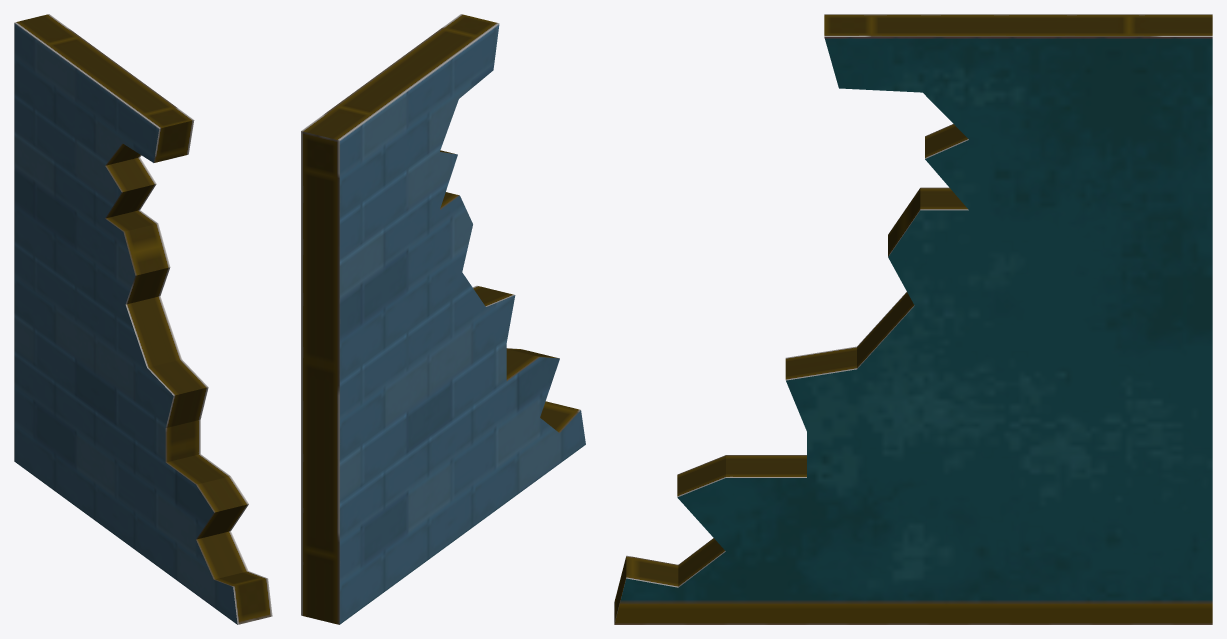
The model's file is Wall_Broken_L_05.fbx.
3 renders of one model, left to right at view 1: azimuth 30°, elevation 25°; view 2: azimuth 150°, elevation 25°; view 3: azimuth 270°, elevation 25°, orthographic. The views are drawn at different scales.
Parts seen in each view (by area): view 1: Wall_Broken_L_05; view 2: Wall_Broken_L_05; view 3: Wall_Broken_L_05.
Part boxes in pixels (x1=…): Wall_Broken_L_05: x1=14, y1=14, x2=272, y2=624; Wall_Broken_L_05: x1=301, y1=14, x2=585, y2=624; Wall_Broken_L_05: x1=614, y1=14, x2=1212, y2=624.
Size of the model in its own units: 50 by 600 by 553.
